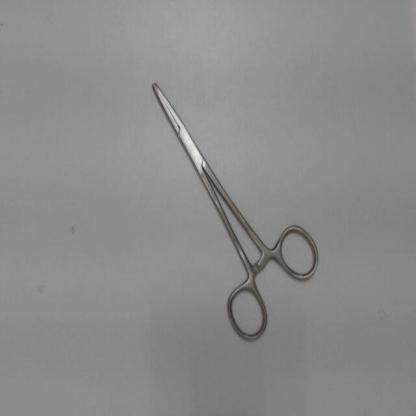Mayo Needle Holder: (142, 70, 324, 350)
